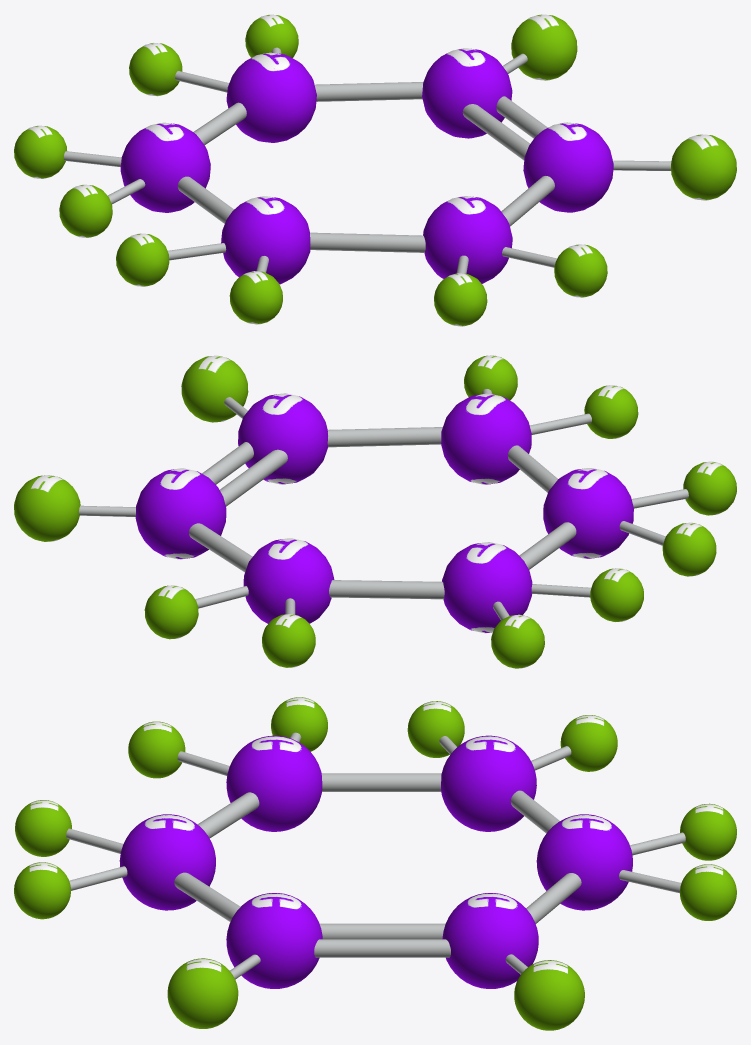
Rendered from SM_Molecule_1.fbx.
3 renders of one model, top to bottom at view 1: azimuth 30°, elevation 25°; view 2: azimuth 150°, elevation 25°; view 3: azimuth 270°, elevation 25°, orthographic. The views are drawn at different scales.
Visible parts, largest first — view 1: SM_Molecule_1; view 2: SM_Molecule_1; view 3: SM_Molecule_1.
Part boxes in pixels (left/top/right/bottom): SM_Molecule_1: left=14, top=14, right=736, bottom=326; SM_Molecule_1: left=14, top=355, right=736, bottom=668; SM_Molecule_1: left=14, top=697, right=736, bottom=1030.
Bounding box in the file's own units: 402 × 54.79 × 414.
Materials: 3 (3 with a texture image).
